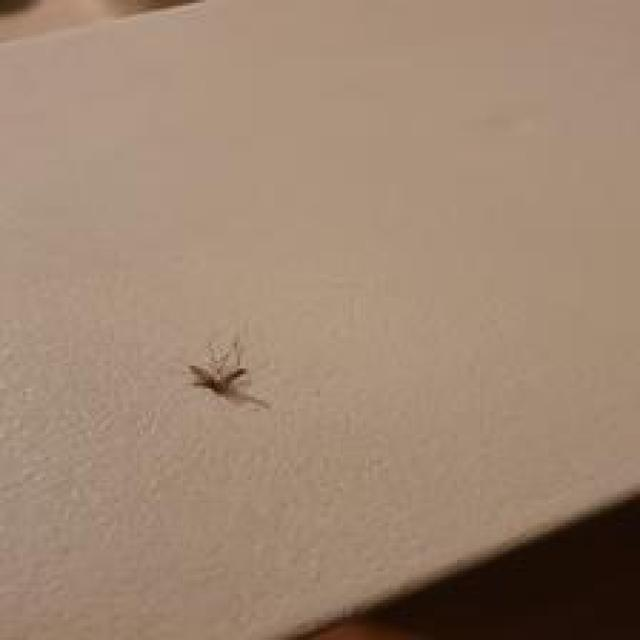Culex: (184, 336, 270, 413)
